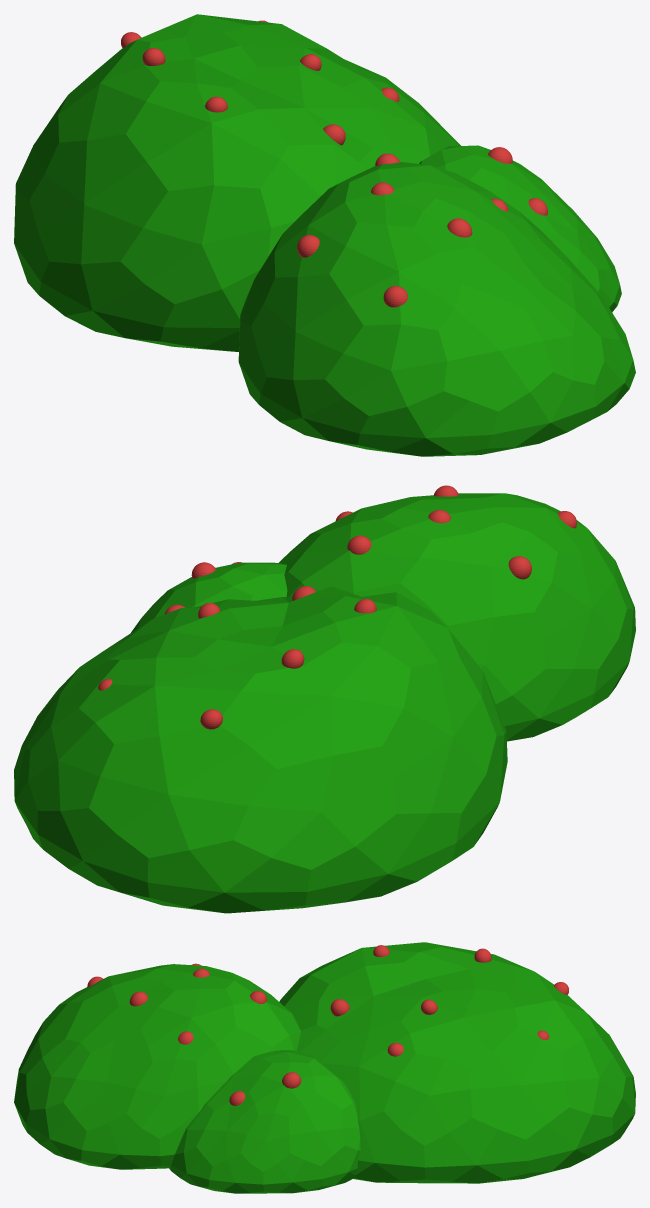
The model's file is Arbustos Redondeados.fbx.
3 renders of one model, top to bottom at view 1: azimuth 30°, elevation 25°; view 2: azimuth 150°, elevation 25°; view 3: azimuth 270°, elevation 25°, orthographic. The views are drawn at different scales.
Visible parts, largest first — view 1: Icosphere; view 2: Icosphere; view 3: Icosphere.
Boxes of the visible parts, x1=… form: Icosphere: x1=14, y1=14, x2=635, y2=456; Icosphere: x1=14, y1=485, x2=635, y2=913; Icosphere: x1=14, y1=942, x2=635, y2=1193.
Bounding box in the file's own units: 219 × 105 × 360.
